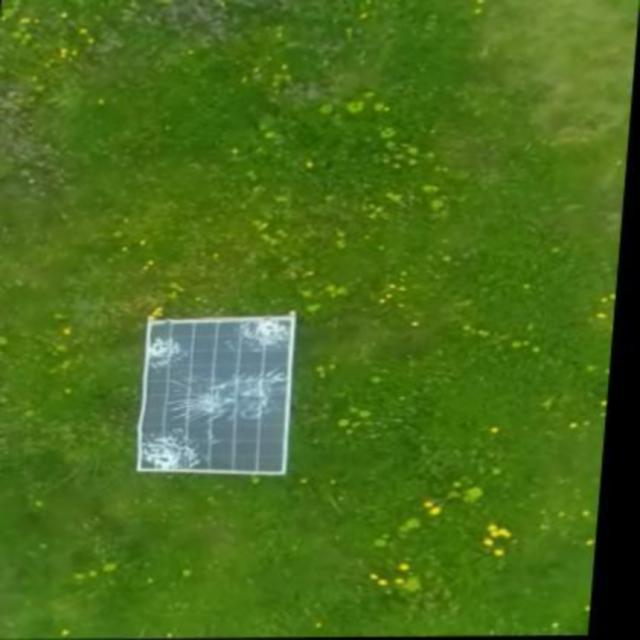cracked: (137, 318, 296, 472)
